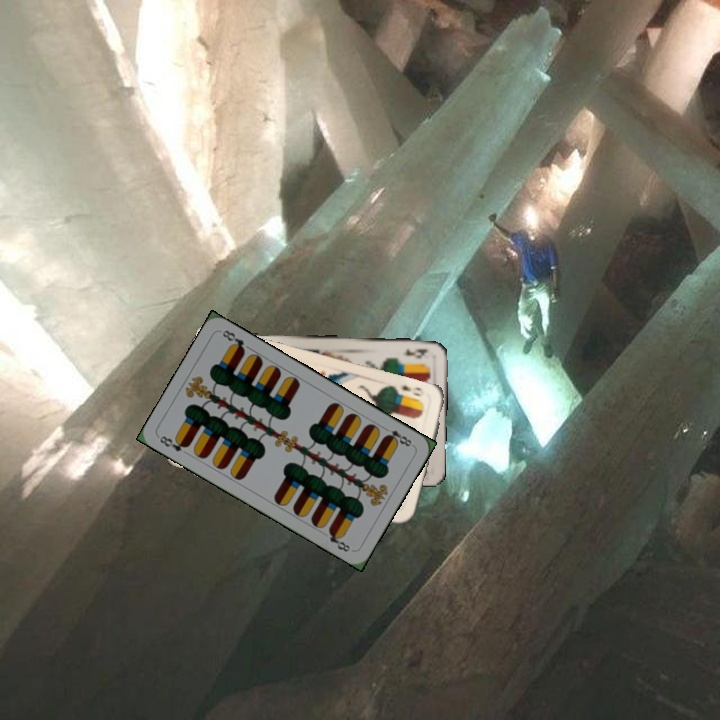E8: (380, 423, 416, 449), (155, 431, 192, 454)
EK: (399, 344, 430, 360)
EO: (396, 381, 424, 399)
